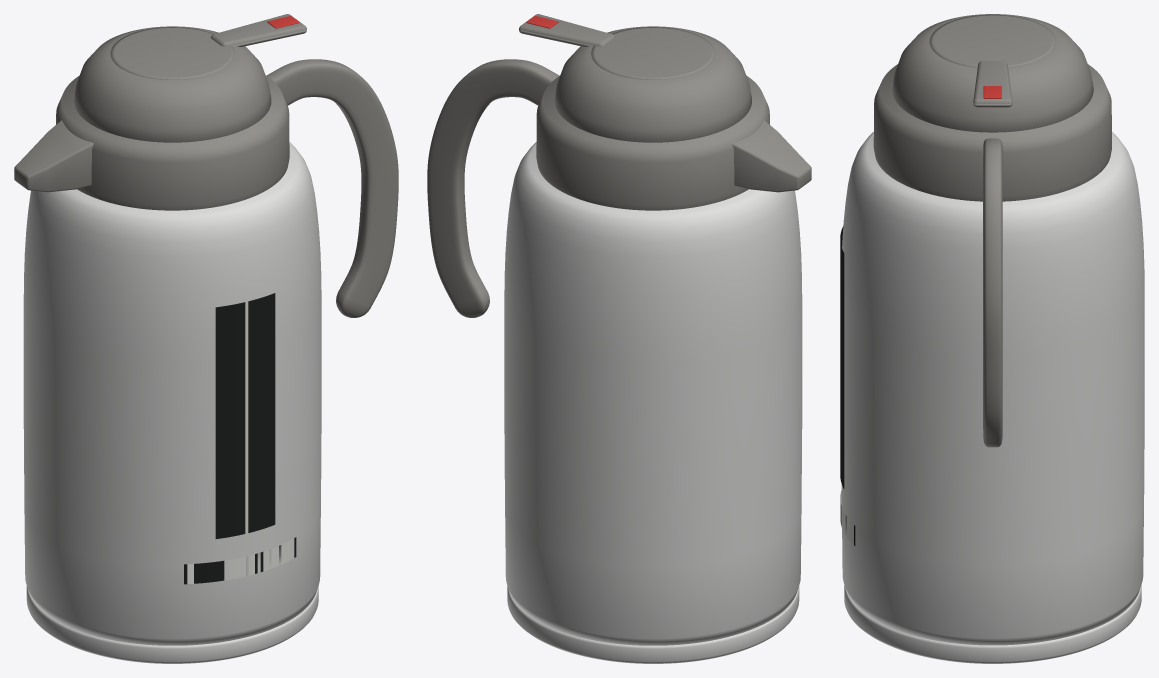
The model's file is kettle_uv2.glb.
The picture shows the model from 3 angles, left to right: view 1: azimuth 30°, elevation 25°; view 2: azimuth 150°, elevation 25°; view 3: azimuth 270°, elevation 25°; orthographic projection.
Visible parts, largest first — view 1: kettle_body, neck_collar, front_label, lid_dome, handle, bottom_ring, lid_top_insert, spout_shell, body_brand, lid_lever; view 2: kettle_body, neck_collar, lid_dome, handle, bottom_ring, lid_top_insert, spout_shell, lid_lever; view 3: kettle_body, neck_collar, lid_dome, handle, bottom_ring, lid_top_insert, lid_lever, front_label.
Part boxes in pixels (x1,y1,x2,y2): kettle_body: (23,142,321,645); neck_collar: (56,75,289,210); front_label: (215,293,275,538); lid_dome: (74,26,271,142); handle: (266,59,398,317); bottom_ring: (26,586,318,663); lid_top_insert: (110,27,234,79); spout_shell: (14,120,93,192); body_brand: (184,537,296,584); lid_lever: (210,14,306,46); kettle_body: (504,142,802,645); neck_collar: (536,75,769,210); lid_dome: (554,26,751,142); handle: (427,59,559,317); bottom_ring: (507,586,799,663); lid_top_insert: (591,27,715,79); spout_shell: (732,120,811,192); lid_lever: (519,14,615,46); kettle_body: (841,132,1144,645); neck_collar: (873,64,1111,201); lid_dome: (892,14,1093,132); handle: (983,138,1002,447); bottom_ring: (844,585,1141,663); lid_top_insert: (929,14,1055,67); lid_lever: (973,61,1012,107); front_label: (840,226,844,488).
Bounding box in the file's own units: 0.217 × 0.3064 × 0.1494.
4 materials, 1 textured.
